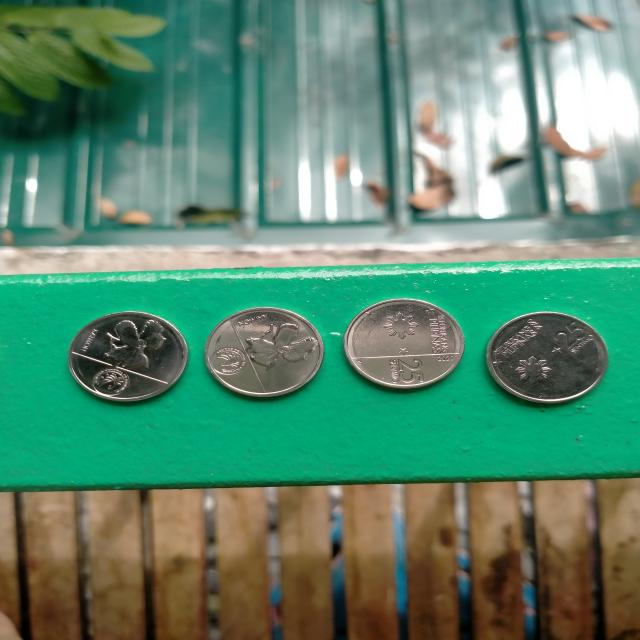25Cent_New_Back: (84, 318, 168, 397)
25Cent_New_Front: (370, 310, 461, 390)
